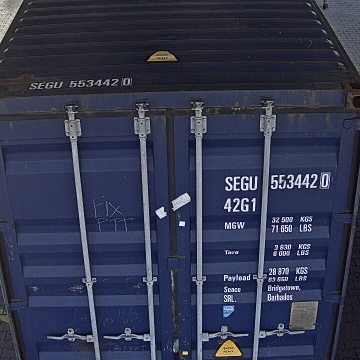serial_id: (225, 173, 330, 190)
